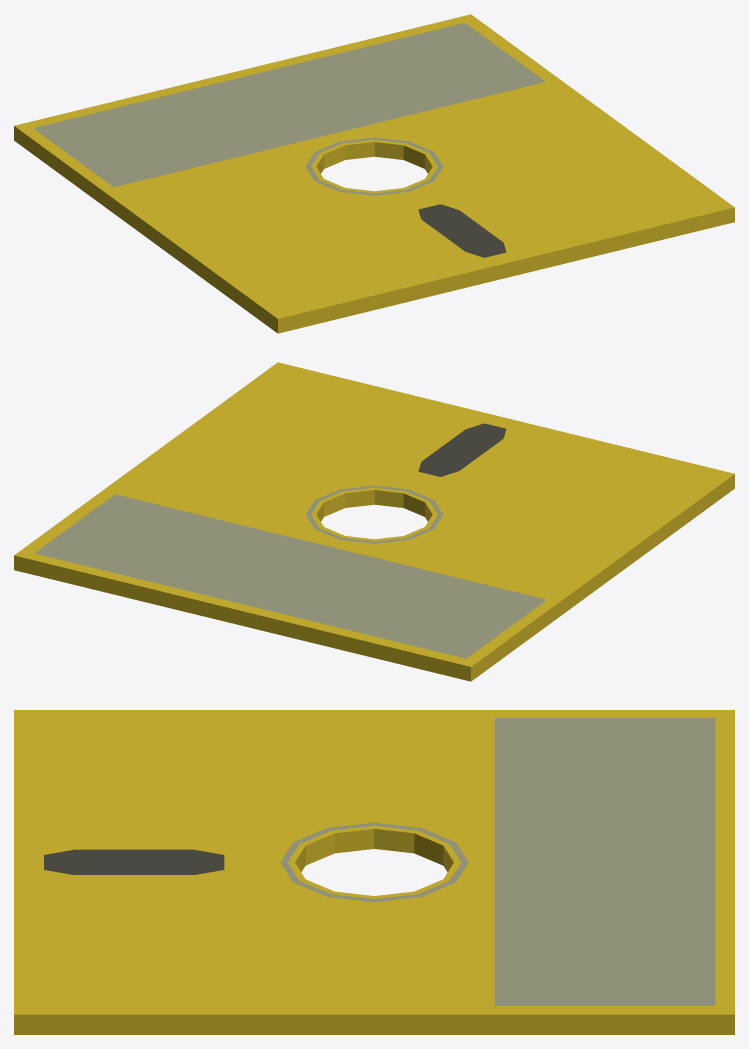
File: FloppyDiscYellow.fbx
3 views of the same model, one above another, from view 1: azimuth 30°, elevation 25°; view 2: azimuth 150°, elevation 25°; view 3: azimuth 270°, elevation 25° (orthographic). The views are drawn at different scales.
Visible parts, largest first — view 1: 5.25FloppyDiskYellow; view 2: 5.25FloppyDiskYellow; view 3: 5.25FloppyDiskYellow.
Part boxes in pixels (x1,y1,x2,y2): 5.25FloppyDiskYellow: (14, 14, 734, 333); 5.25FloppyDiskYellow: (14, 362, 734, 681); 5.25FloppyDiskYellow: (14, 710, 734, 1034).
Bounding box in the file's own units: 13.27 × 0.4085 × 13.27.
